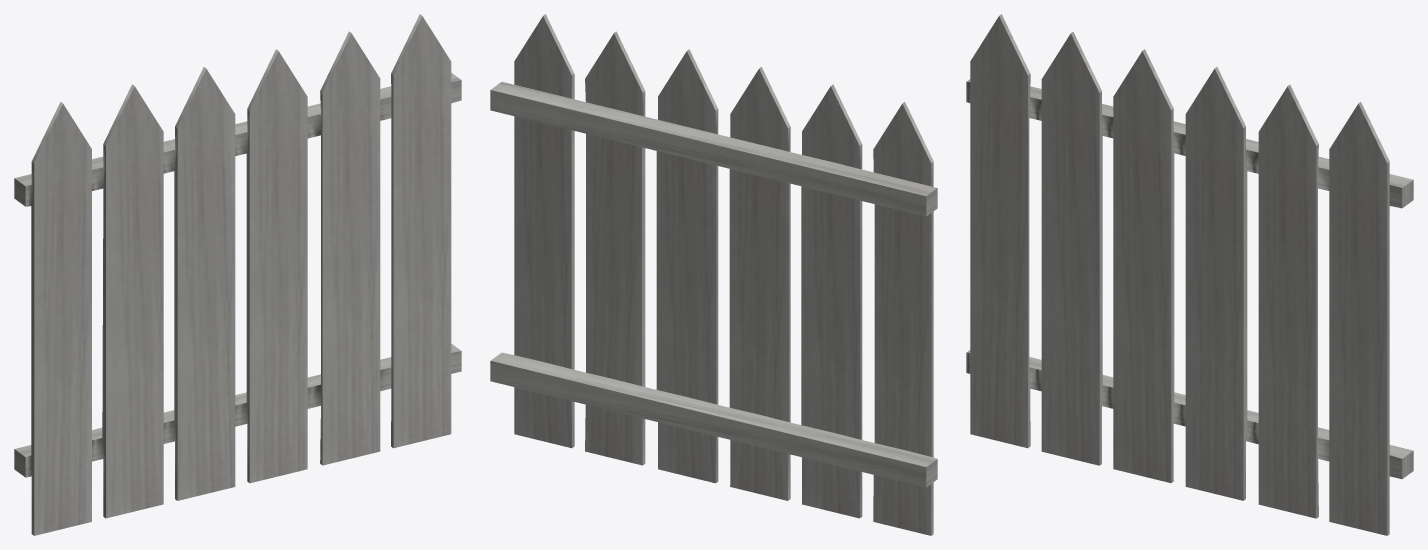
Rendered from Fence.fbx.
3 renders of one model, left to right at view 1: azimuth 30°, elevation 25°; view 2: azimuth 150°, elevation 25°; view 3: azimuth 330°, elevation 25°, orthographic.
Parts seen in each view (by area): view 1: Fence; view 2: Fence; view 3: Fence.
Part boxes in pixels (box(x1,y1,x2,y2)): Fence: box(14, 14, 461, 535); Fence: box(490, 14, 937, 535); Fence: box(966, 14, 1413, 535).
Bounding box in the file's own units: 1.82 × 1.7 × 0.099.
Materials: 1 (1 with a texture image).
